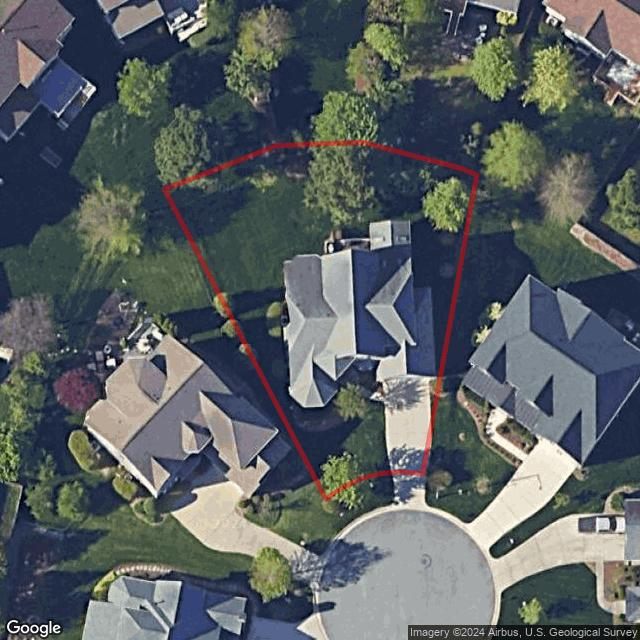Driveway: (382, 380, 433, 474)
Extra-Driveway: (390, 431, 432, 504)
Extra-Lawn: (325, 473, 395, 527)
House: (283, 220, 438, 409)
Lawn: (165, 142, 478, 499)
Other: (291, 389, 361, 433)
Sidewalk: (341, 368, 384, 402)
